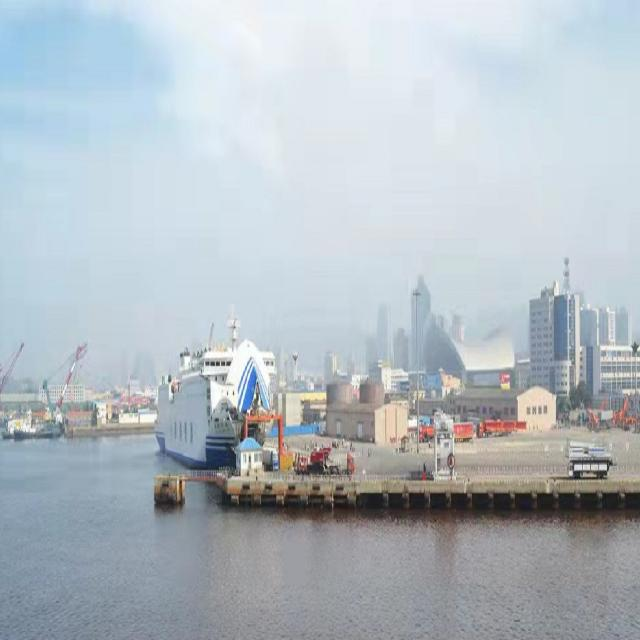passenger ship: (130, 314, 257, 460)
